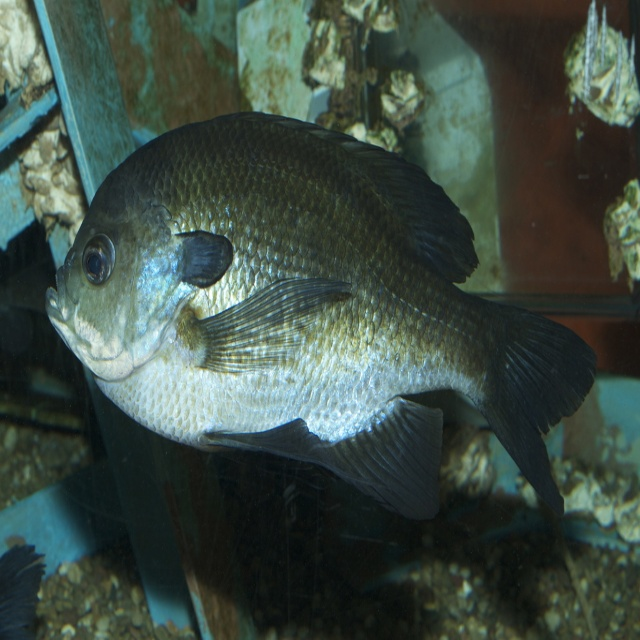Fish: (45, 111, 598, 521)
